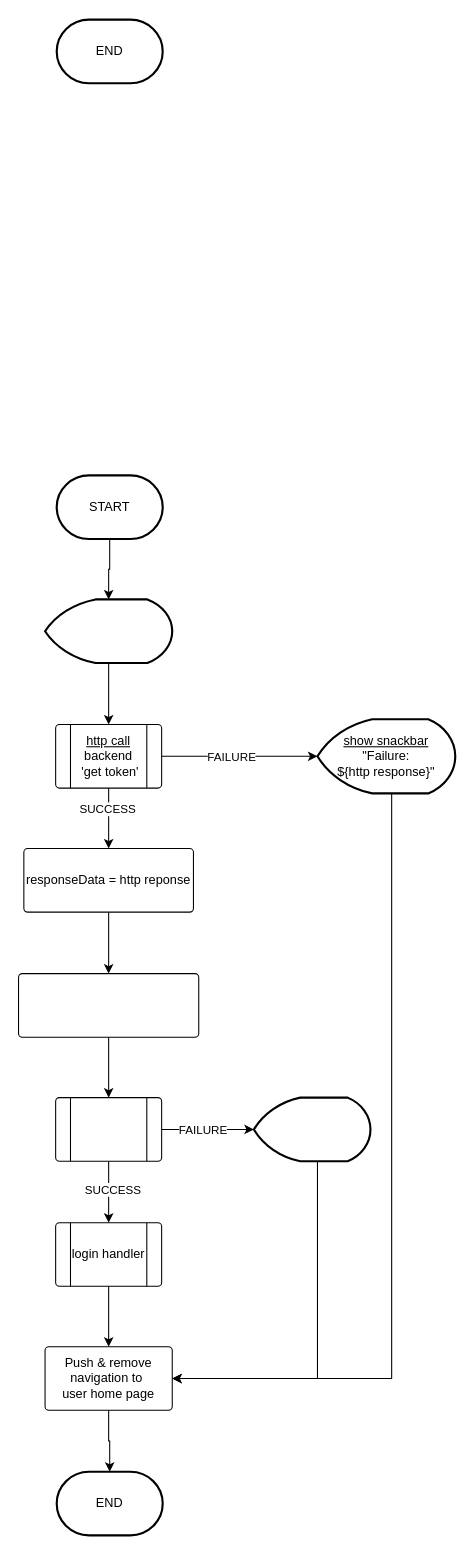
The diagram is 475 pixels wide and 1554 high, and some of its shapes have lost their labels. Each missing label, with the centre of its shape:
show snackbar "error signing in": point 311,1129
show snackbar "signing in...": point 108,631
sign in with custom token: point 108,1129
token = repsonseData['customToken']: point 108,1005
